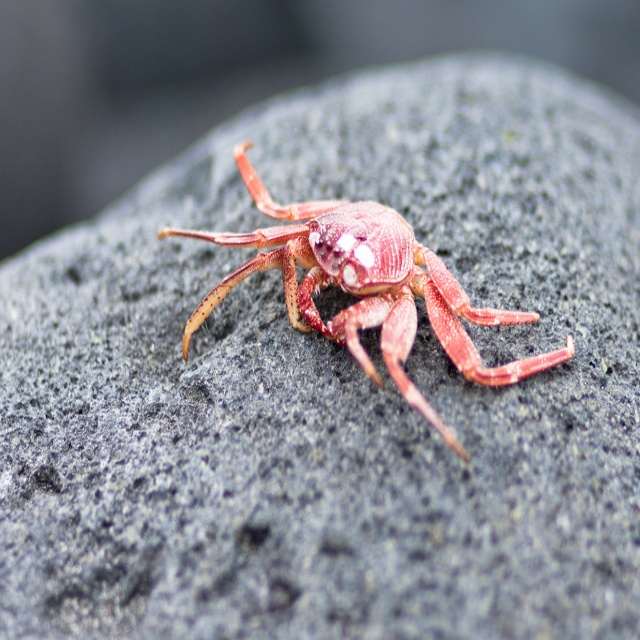Crab: (157, 137, 579, 471)
